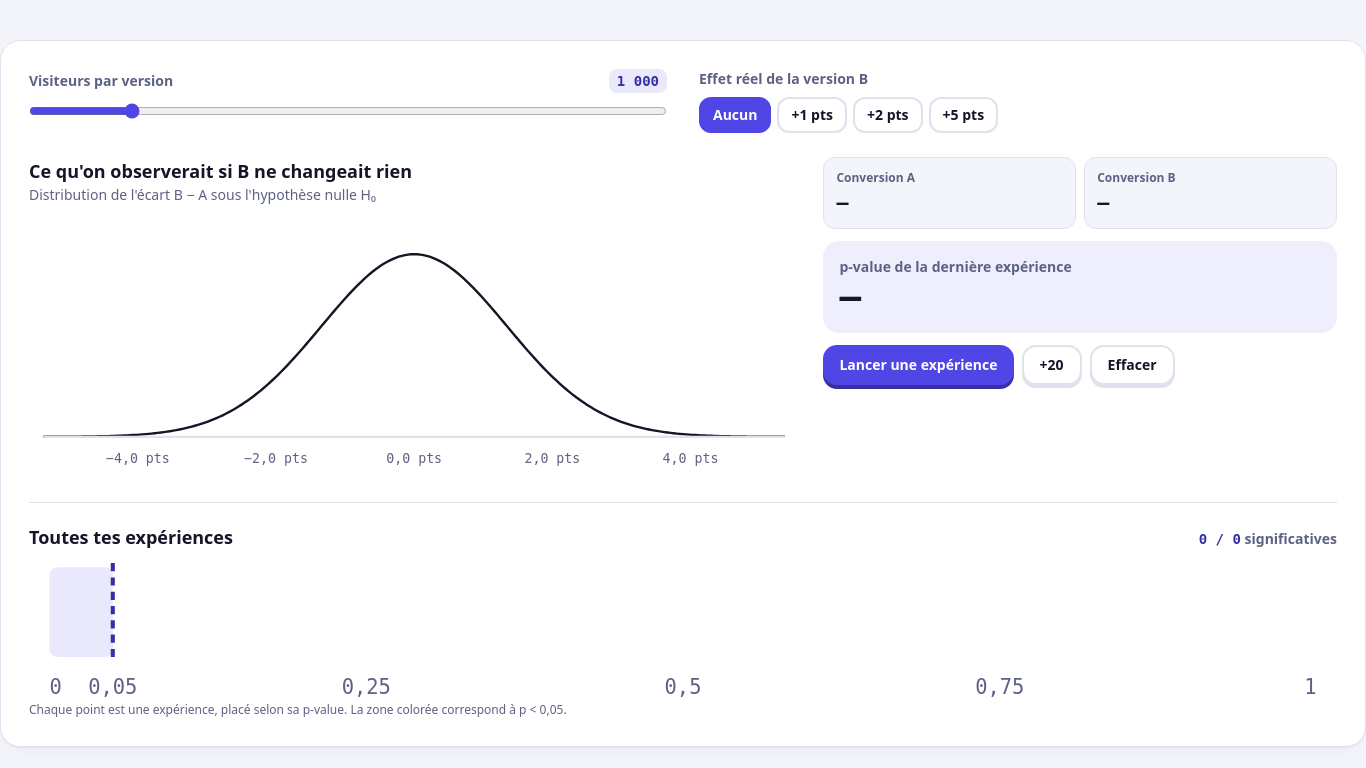
Test: nouveaux labos › AbLab : lancer des expériences met à jour p-value et compteur
Click the button "Lancer une expérience".
click(918, 365)  # box [823,345,1014,385]
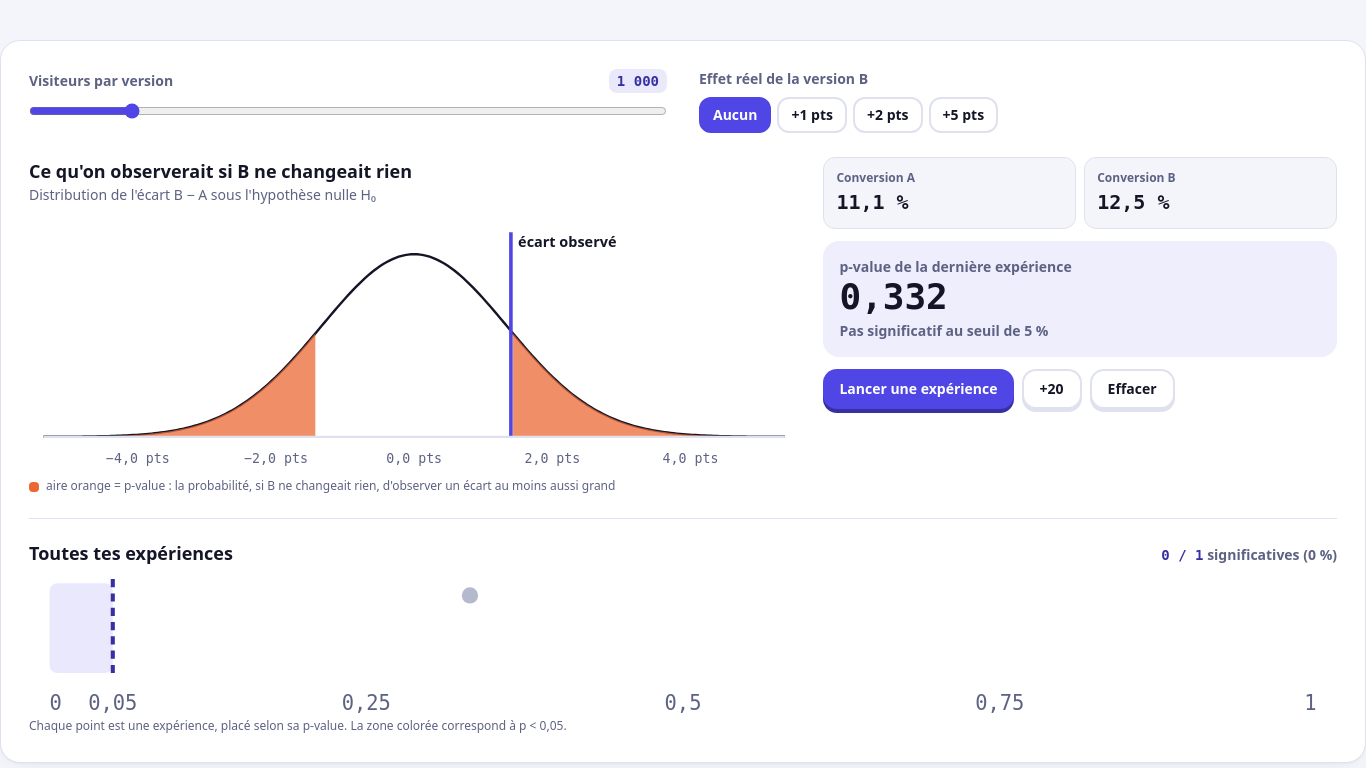
Check: the text "Pas significatif au seuil de 5 %" is shown, box [839,321,1048,340]
Click the button "+20".
click(1052, 389)  # box [1022,369,1082,409]
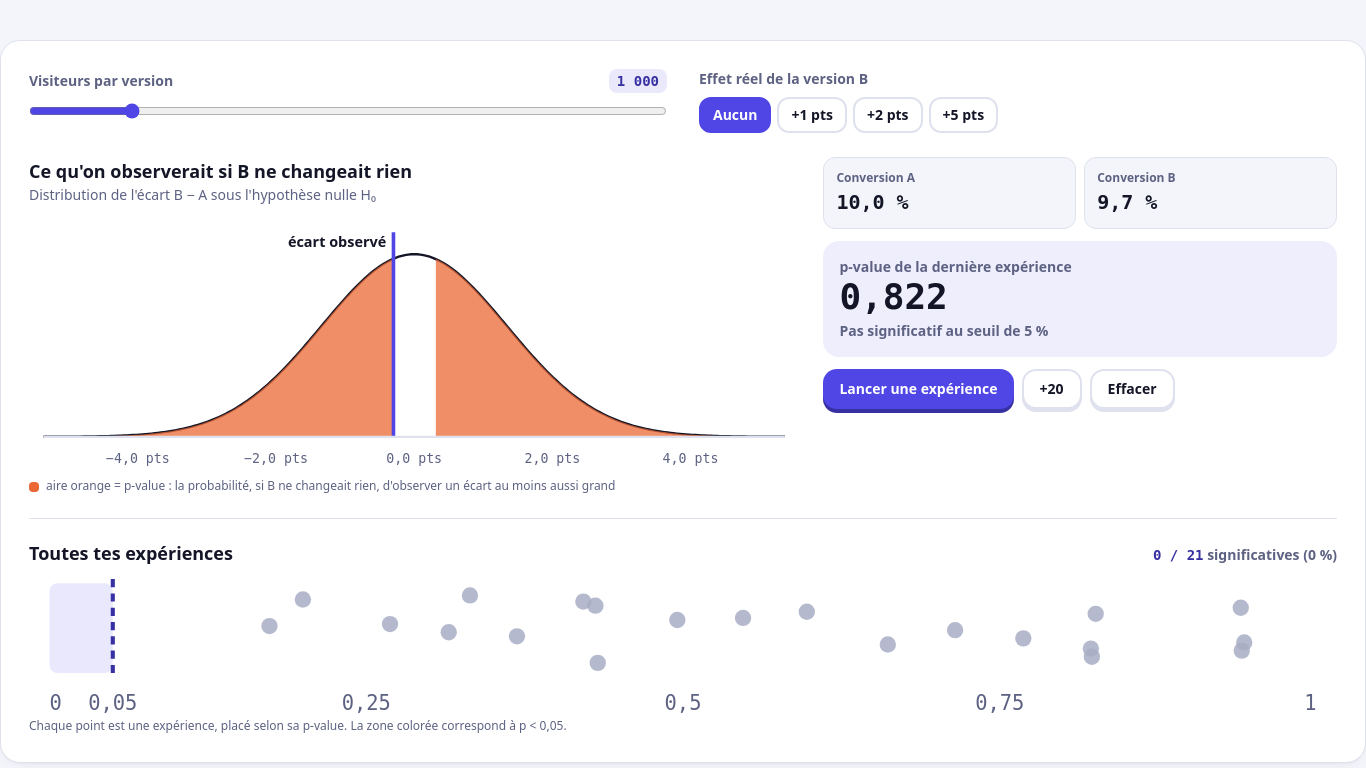
Check: the text "0 / 21" is shown, box [1153,547,1204,563]
